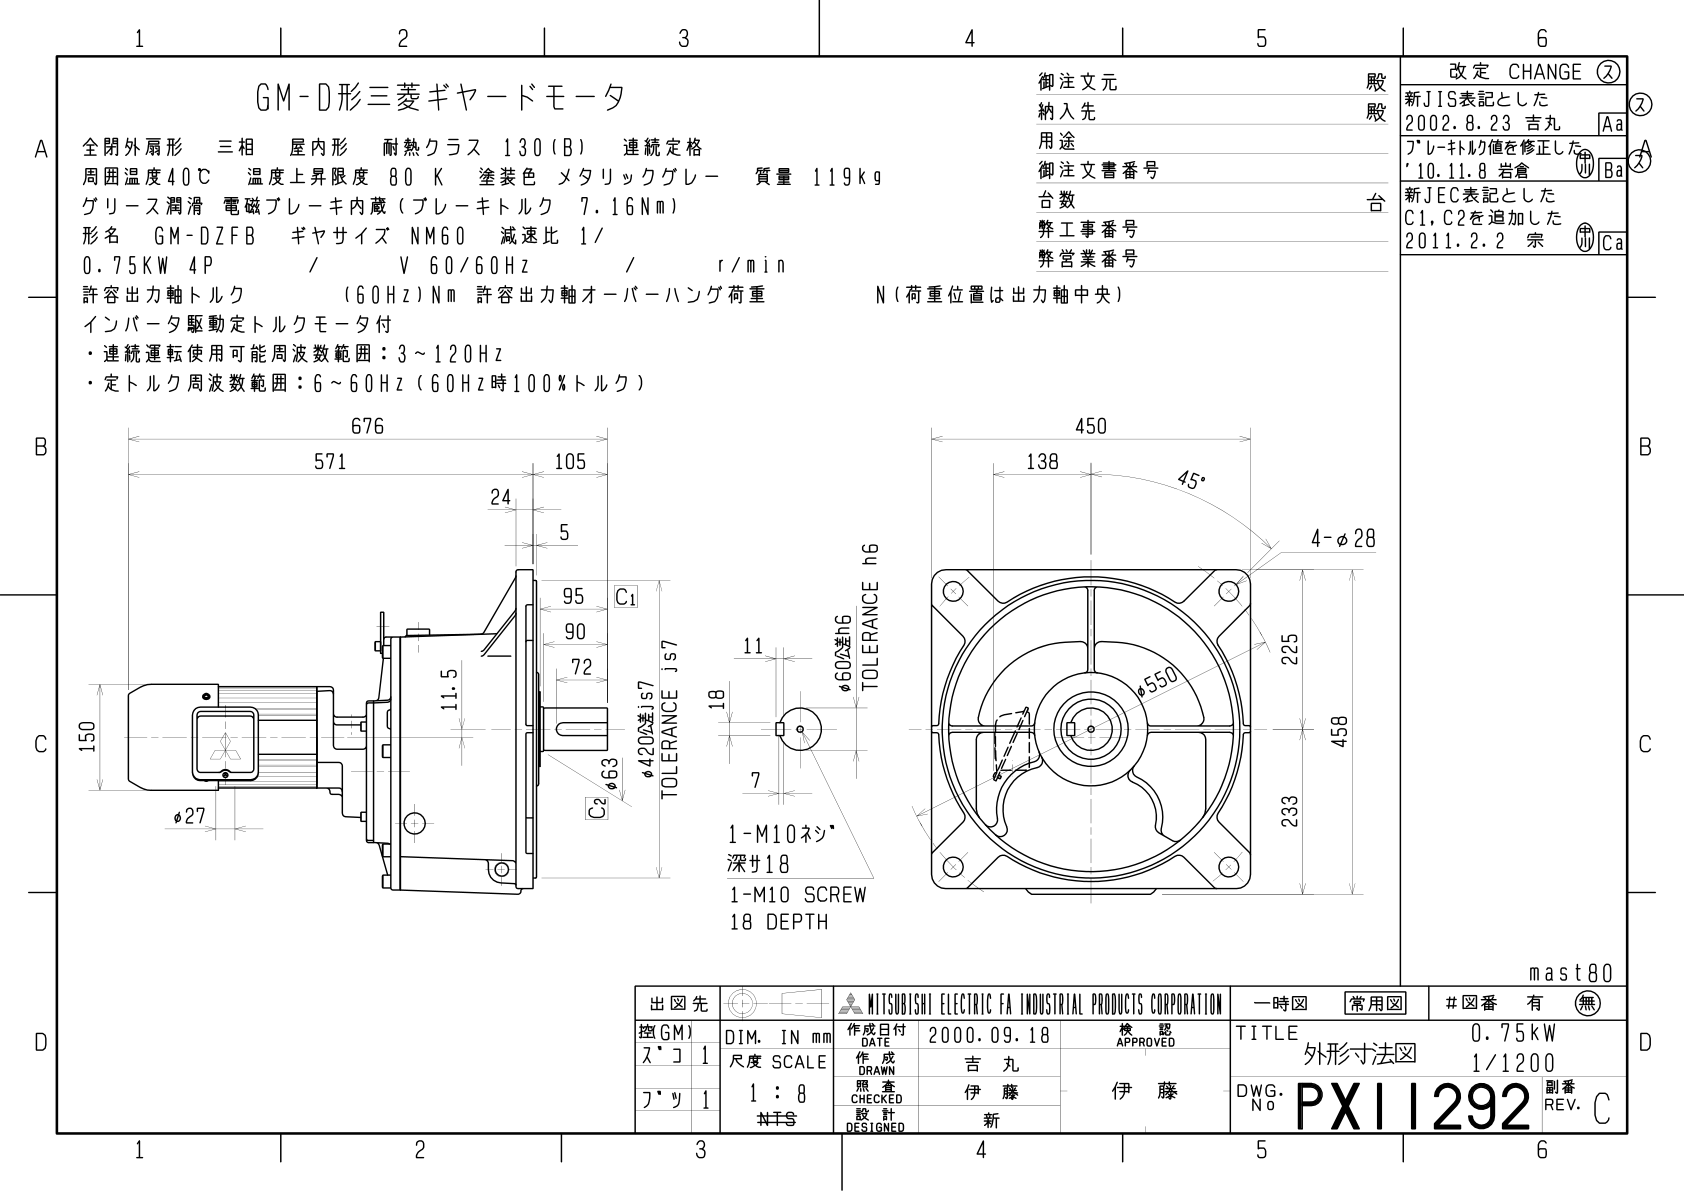GM_D_インバータ屋内_三相_フランジ: (12, 12, 1675, 1188)
